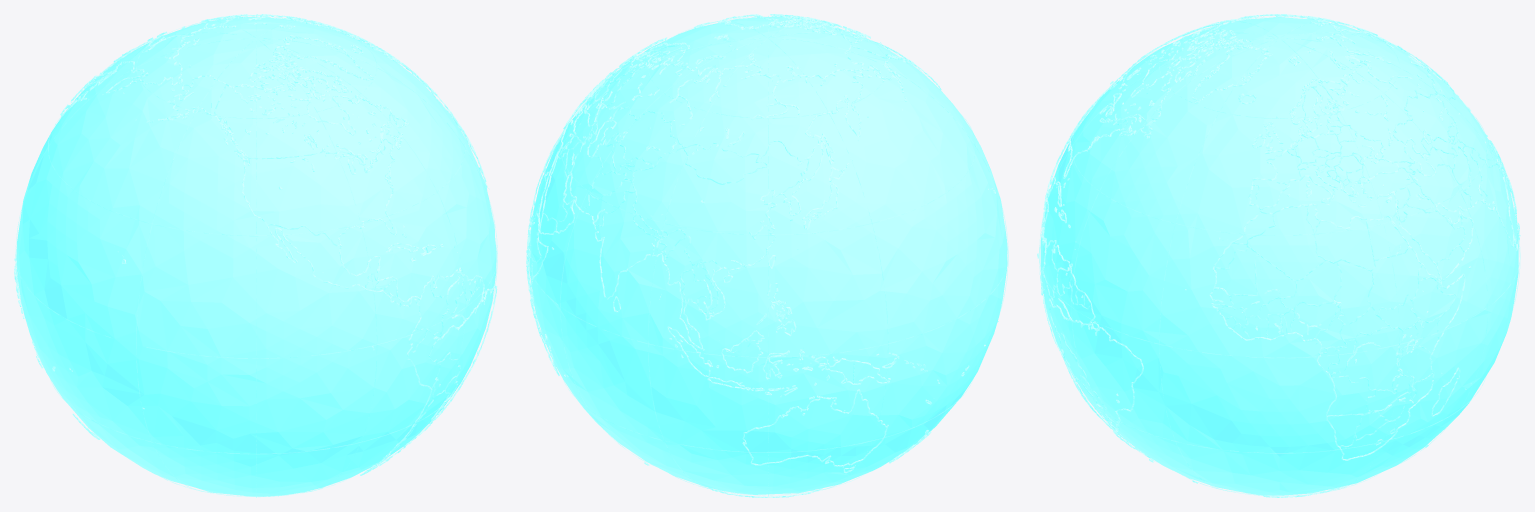
The model's file is holographic-globe-uniform-detail-low.glb.
The picture shows the model from 3 angles, left to right: view 1: azimuth 30°, elevation 25°; view 2: azimuth 150°, elevation 25°; view 3: azimuth 270°, elevation 25°; orthographic projection.
Visible parts, largest first — view 1: sphere_shell, coastlines, wireframe_lines, country_borders; view 2: sphere_shell, coastlines, country_borders, wireframe_lines; view 3: sphere_shell, coastlines, country_borders, wireframe_lines.
Part boxes in pixels (x1,y1,x2,y2): sphere_shell: (16, 17, 496, 496); coastlines: (14, 14, 497, 496); wireframe_lines: (15, 16, 497, 497); country_borders: (80, 20, 485, 471); sphere_shell: (529, 17, 1007, 494); coastlines: (526, 14, 998, 497); country_borders: (526, 36, 906, 383); wireframe_lines: (528, 16, 1008, 496); sphere_shell: (1040, 17, 1518, 495); coastlines: (1037, 14, 1520, 497); country_borders: (1042, 23, 1516, 452); wireframe_lines: (1039, 17, 1520, 495).
Size of the model in its own units: 2.01 by 2.01 by 2.02.
